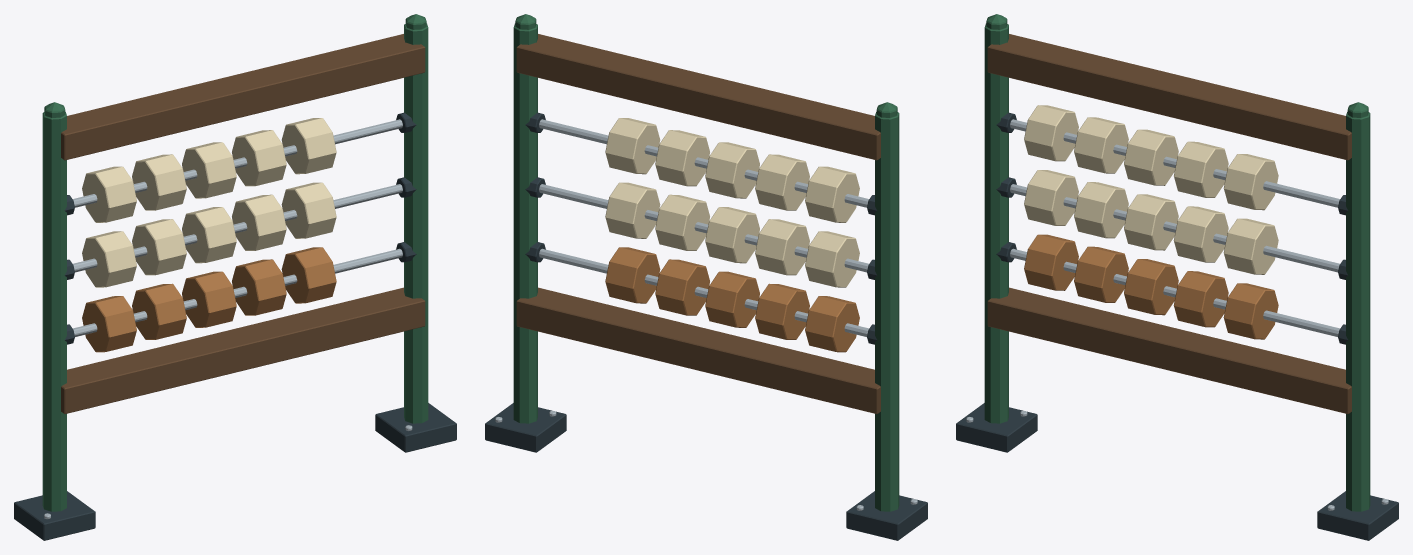
Rendered from b09_playground_abacus_panel.glb.
3 views of the same model, side by side, from view 1: azimuth 30°, elevation 25°; view 2: azimuth 150°, elevation 25°; view 3: azimuth 330°, elevation 25° (orthographic).
Parts seen in each view (by area): view 1: b09_playground_abacus_panel; view 2: b09_playground_abacus_panel; view 3: b09_playground_abacus_panel.
Part boxes in pixels (bbox=[...]): b09_playground_abacus_panel: bbox=[14, 14, 456, 540]; b09_playground_abacus_panel: bbox=[485, 14, 927, 540]; b09_playground_abacus_panel: bbox=[956, 14, 1398, 540].
Bounding box in the file's own units: 1.74 × 1.7 × 0.22.
